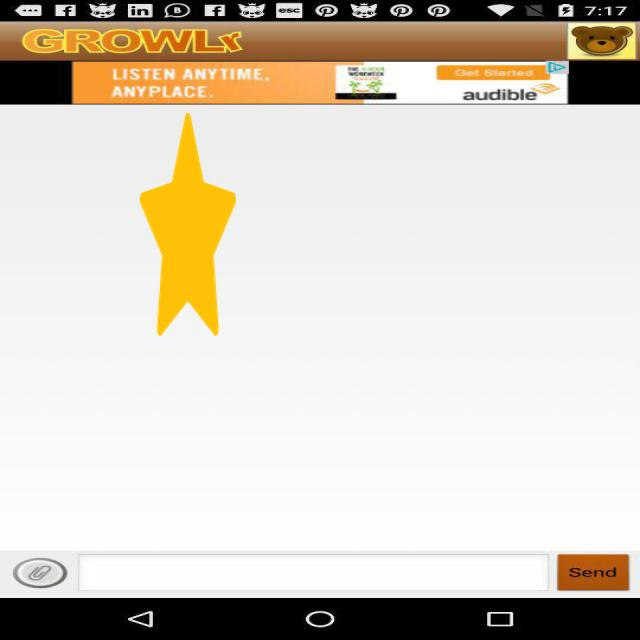forced continuity: (140, 113, 236, 336)
